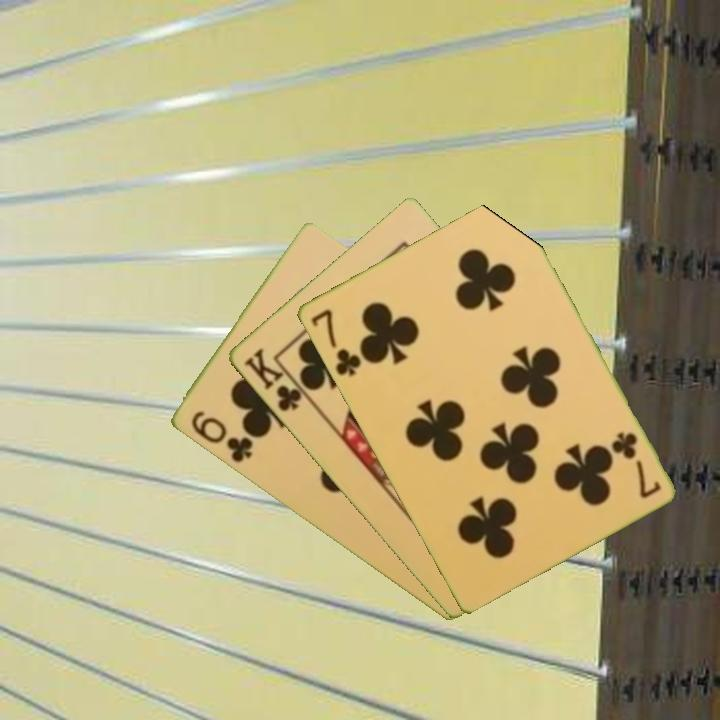6c: (186, 407, 255, 466)
7c: (307, 305, 364, 379), (607, 428, 664, 501)
Kc: (240, 344, 312, 415)
